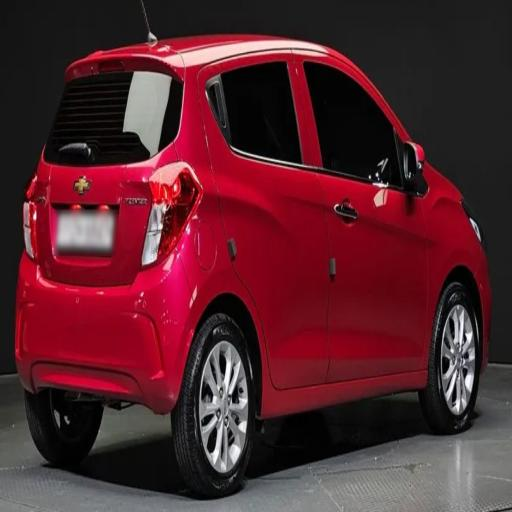scratch: (102, 125, 232, 326)
